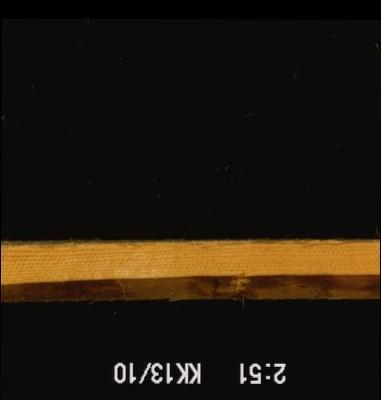wave: (0, 271, 379, 305)
